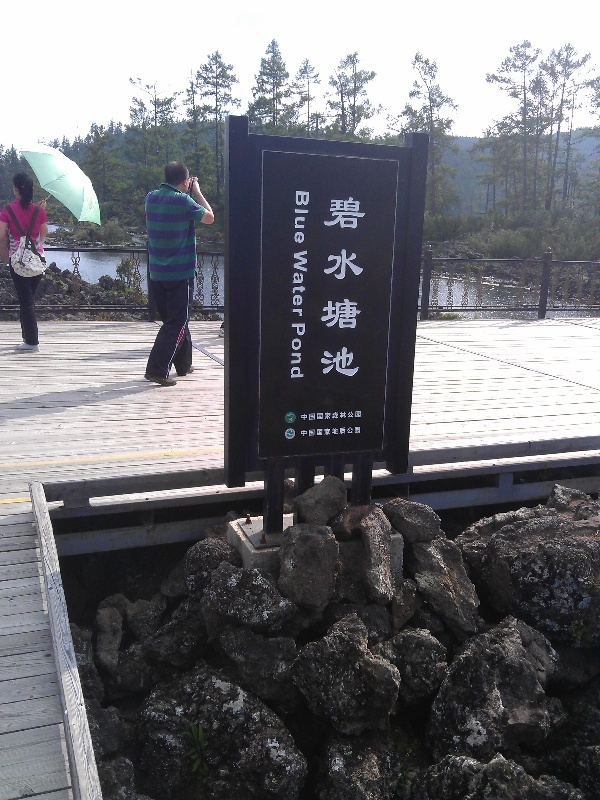text: (337, 194, 352, 379), (353, 194, 368, 379), (325, 194, 336, 379), (292, 251, 304, 317), (291, 322, 304, 380), (293, 190, 304, 245), (305, 190, 312, 245), (305, 426, 320, 438), (321, 426, 336, 438), (337, 426, 352, 438), (305, 322, 308, 380), (305, 410, 320, 421), (321, 410, 336, 421), (337, 410, 352, 421), (305, 251, 307, 317), (353, 410, 363, 421), (353, 426, 362, 438), (301, 426, 304, 438), (301, 410, 304, 421)
